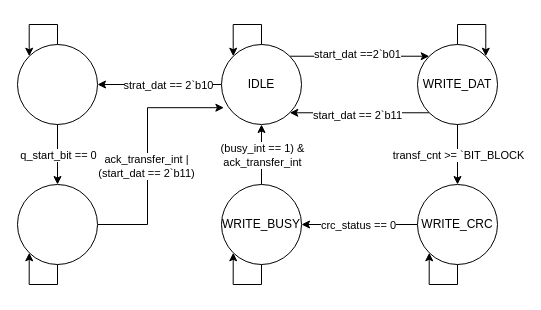
This 541x310 diagram has some shape labels left out. Each missing label, with the centre of its shape:
"READ_DAT" goes at point 57,224.
"READ_WAIT" goes at point 57,84.
